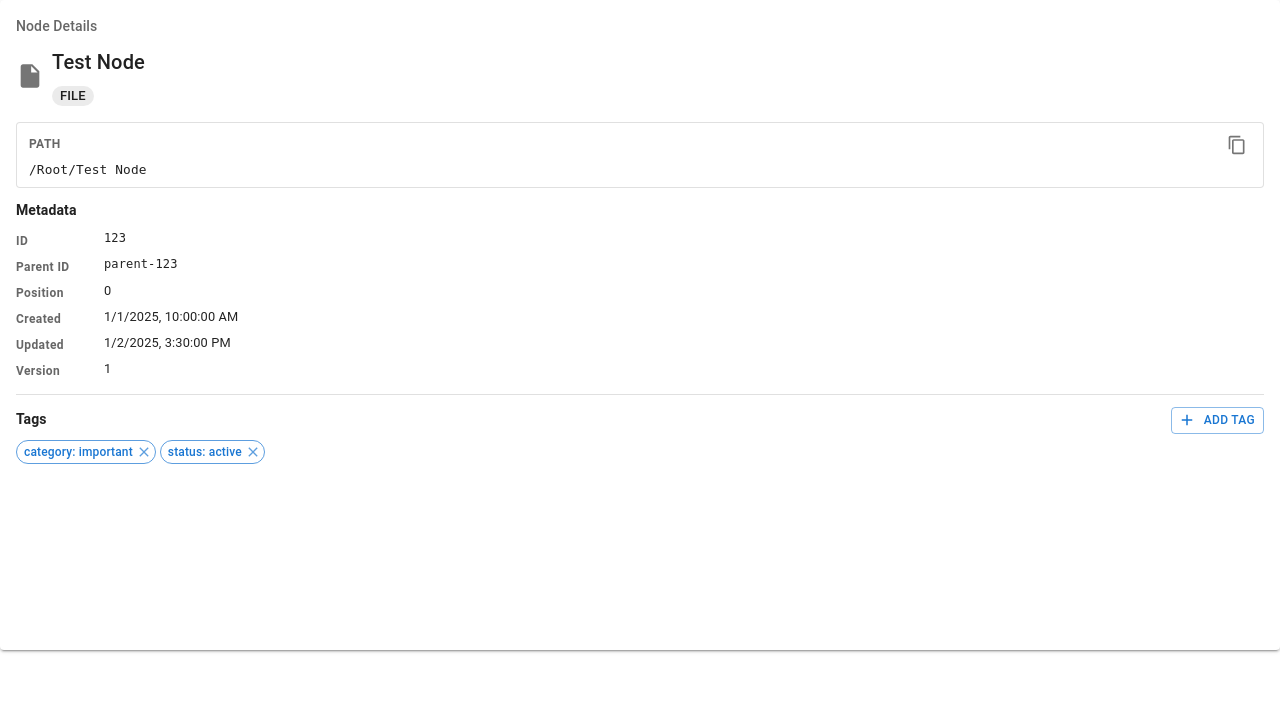
Scenario: NodeDetailsPanel › should open AddTagDialog when Add Tag button is clicked
Click the button "Add Tag". click: (1217, 420)
box: [1171,407,1264,434]
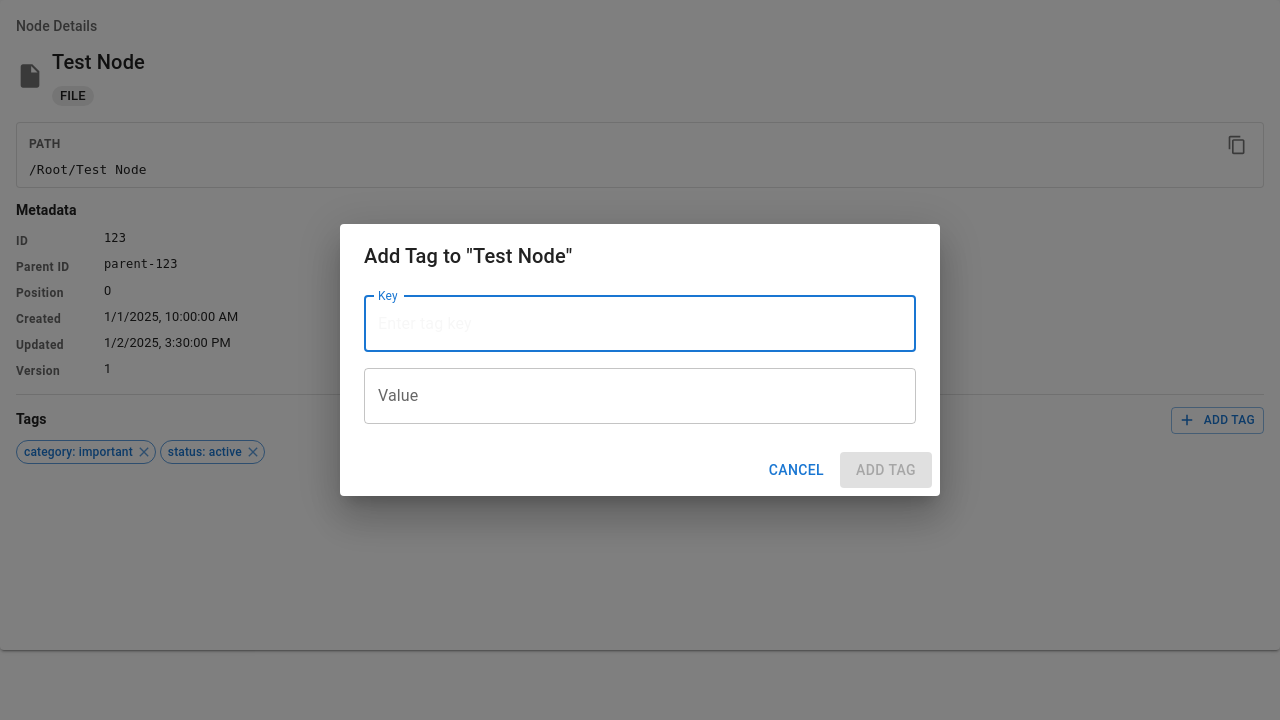
Expected: the heading "Add Tag to \"Test Node\"" is shown, [364,244,572,268]
